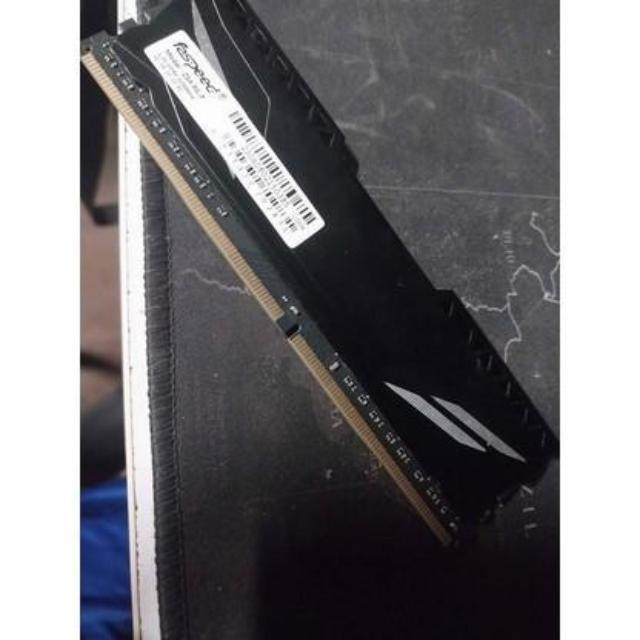RAM: (78, 0, 570, 557)
